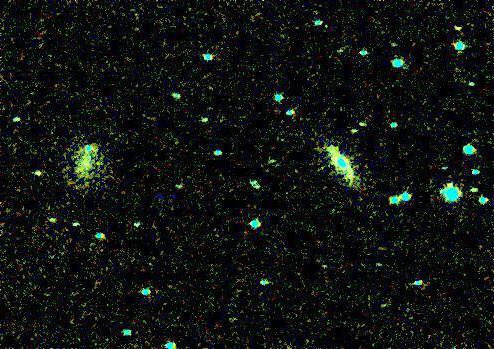star: (315, 133, 345, 163)
